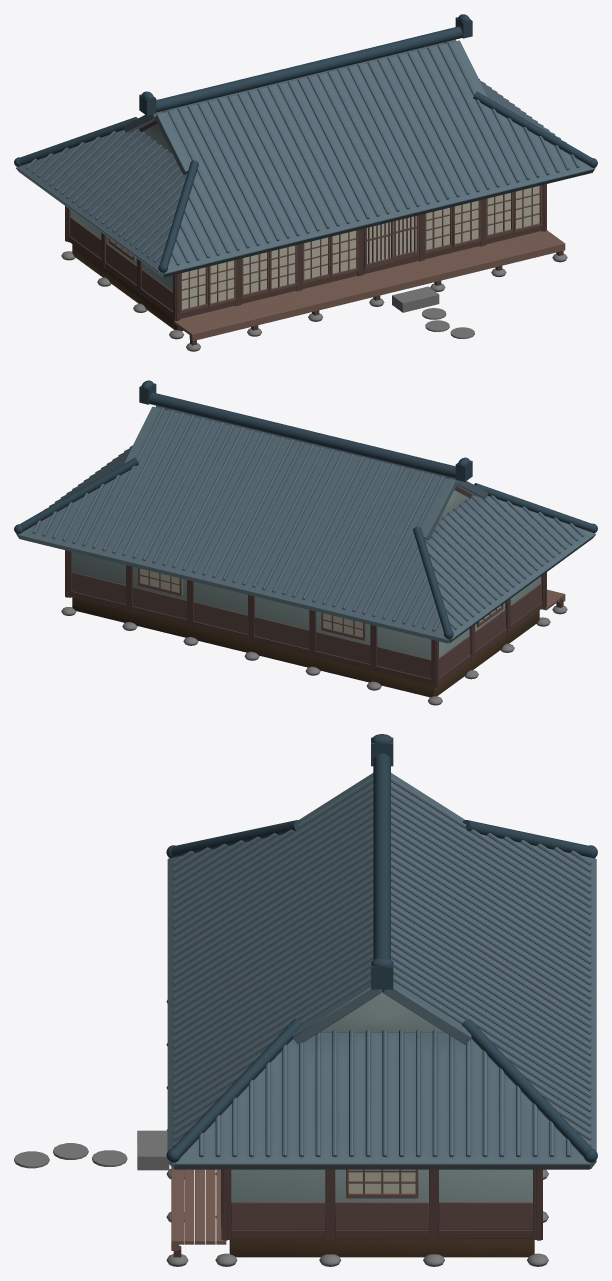
Rendered from machiya.glb.
3 views of the same model, one above another, from view 1: azimuth 30°, elevation 25°; view 2: azimuth 150°, elevation 25°; view 3: azimuth 270°, elevation 25° (orthographic). The views are drawn at different scales.
Visible parts, largest first — view 1: japanese-house_body, japanese-house_details, japanese-house_ridges, japanese-house_sliding_door; view 2: japanese-house_body, japanese-house_details, japanese-house_ridges; view 3: japanese-house_body, japanese-house_details, japanese-house_ridges.
Part boxes in pixels (left/top/right/bottom): japanese-house_body: left=16, top=39, right=595, bottom=331; japanese-house_details: left=61, top=184, right=567, bottom=351; japanese-house_ridges: left=14, top=14, right=597, bottom=275; japanese-house_sliding_door: left=364, top=221, right=393, bottom=269; japanese-house_body: left=16, top=405, right=595, bottom=697; japanese-house_details: left=61, top=550, right=567, bottom=705; japanese-house_ridges: left=14, top=380, right=597, bottom=642; japanese-house_body: left=167, top=773, right=596, bottom=1257; japanese-house_details: left=14, top=1000, right=548, bottom=1266; japanese-house_ridges: left=166, top=734, right=597, bottom=1167.
Size of the model in its own units: 13.16 by 5.74 by 10.5.
10 materials, 1 textured.
